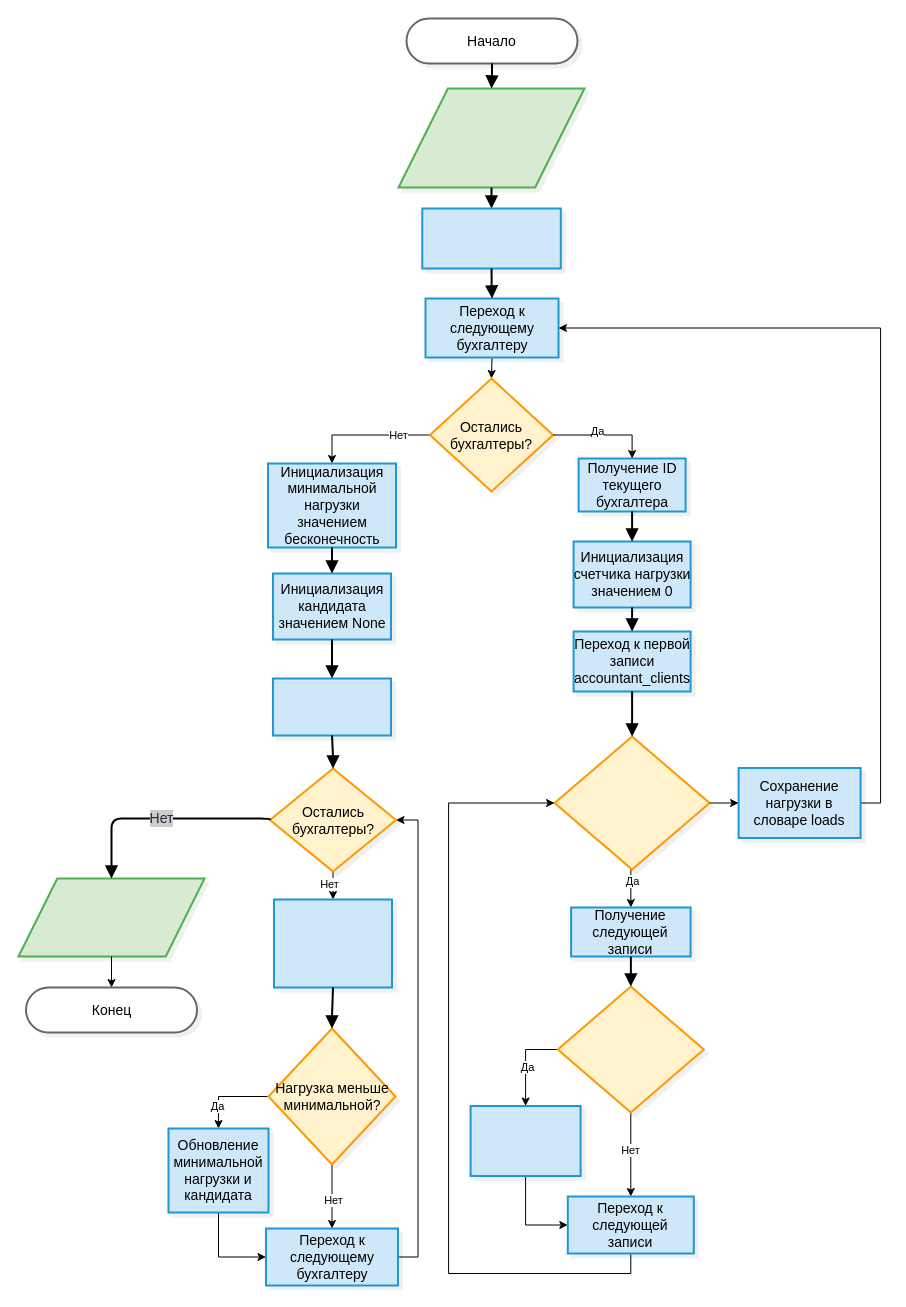
This 906x1307 diagram has some shape labels left out. The shapes that lost their labels are listed below. From the top down, each one's centre as x and y in pixels, then its label:
pixel 493 139: Получение списка бухгалтеров и закрепленных организаций
pixel 493 240: Инициализация пустого словаря loads
pixel 334 708: Переход к первому бухгалтеру
pixel 633 804: Остались записи о закрепленных организациях?
pixel 113 919: Возврат выбранного бухгалтера
pixel 334 945: Получение рассчитанной нагрузки бухгалтера
pixel 632 1051: ID бухгалтера в записи совпадает с текущим?
pixel 527 1142: Увеличение счетчика нагрузки на 1
